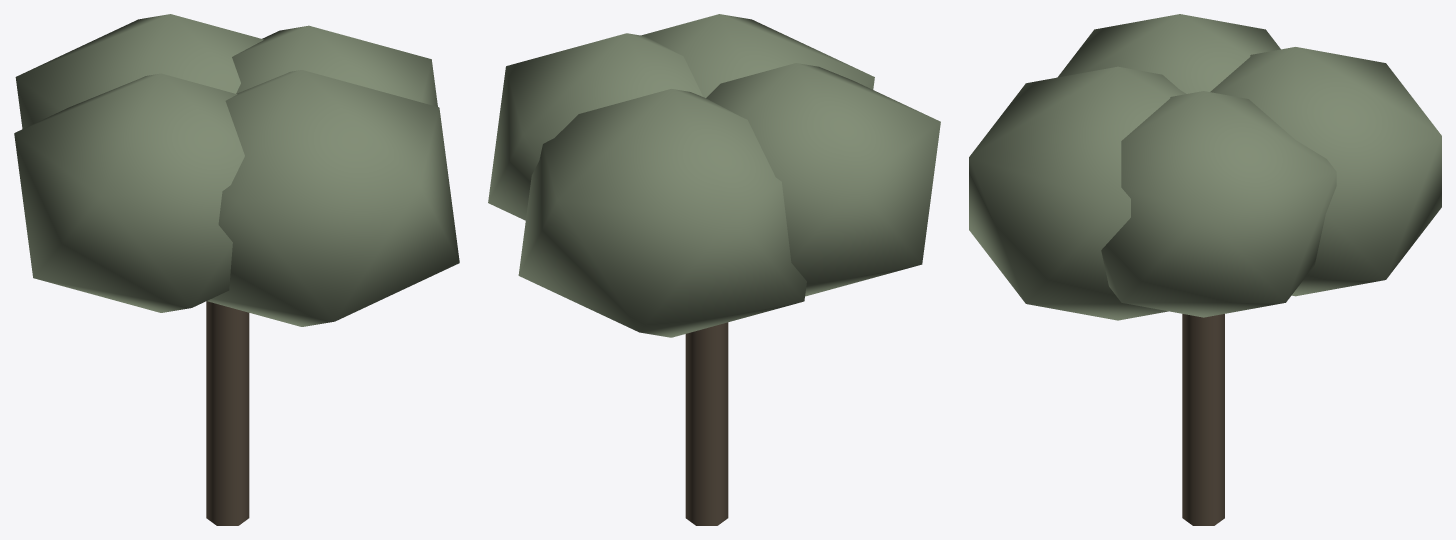
File: tf_sagebrush_1p4.glb
3 views of the same model, side by side, from view 1: azimuth 30°, elevation 25°; view 2: azimuth 150°, elevation 25°; view 3: azimuth 270°, elevation 25° (orthographic).
Parts seen in each view (by area): view 1: tf_sagebrush_1p4; view 2: tf_sagebrush_1p4; view 3: tf_sagebrush_1p4.
Boxes of the visible parts, x1=… form: tf_sagebrush_1p4: x1=14, y1=14, x2=459, y2=525; tf_sagebrush_1p4: x1=488, y1=14, x2=940, y2=525; tf_sagebrush_1p4: x1=969, y1=14, x2=1441, y2=525.
Size of what is drawn, in the model's own units: 1.27 by 1.4 by 1.29.
